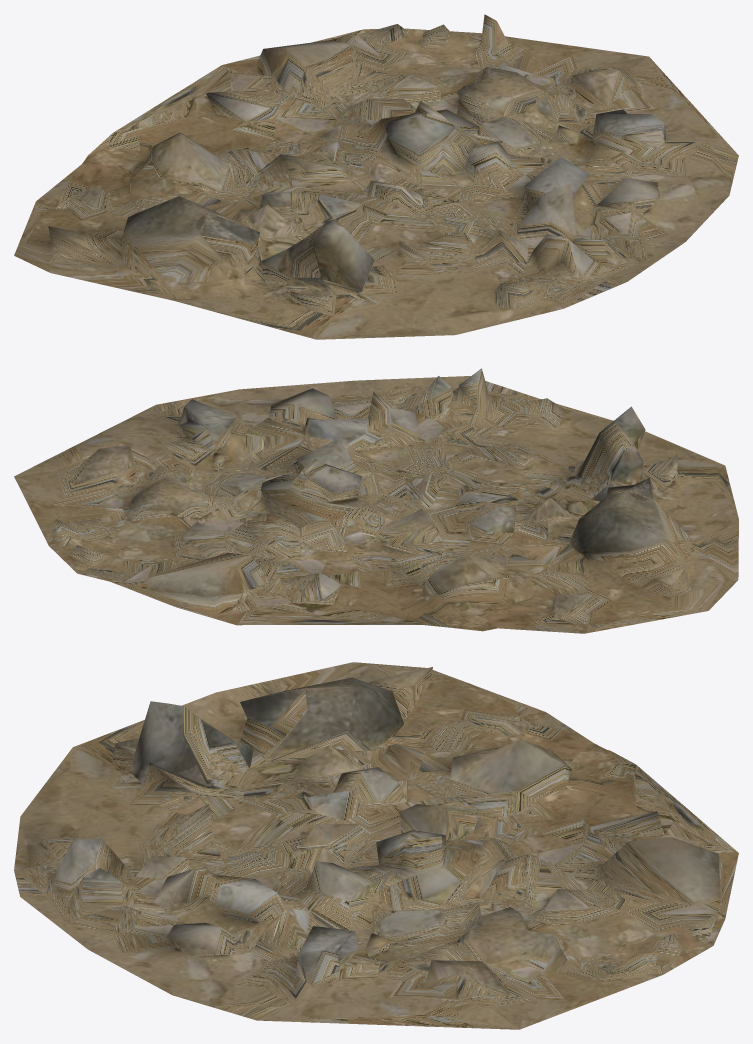
Rendered from pebble_patch_01.obj.
3 views of the same model, one above another, from view 1: azimuth 30°, elevation 25°; view 2: azimuth 150°, elevation 25°; view 3: azimuth 270°, elevation 25° (orthographic). The views are drawn at different scales.
Parts seen in each view (by area): view 1: pebble_patch_01; view 2: pebble_patch_01; view 3: pebble_patch_01.
Part boxes in pixels (x1,y1,x2,y2): pebble_patch_01: (14, 14, 738, 339); pebble_patch_01: (14, 368, 738, 633); pebble_patch_01: (14, 662, 738, 1029).
Bounding box in the file's own units: 4.49 × 0.4984 × 3.76.
1 material, 1 textured.
